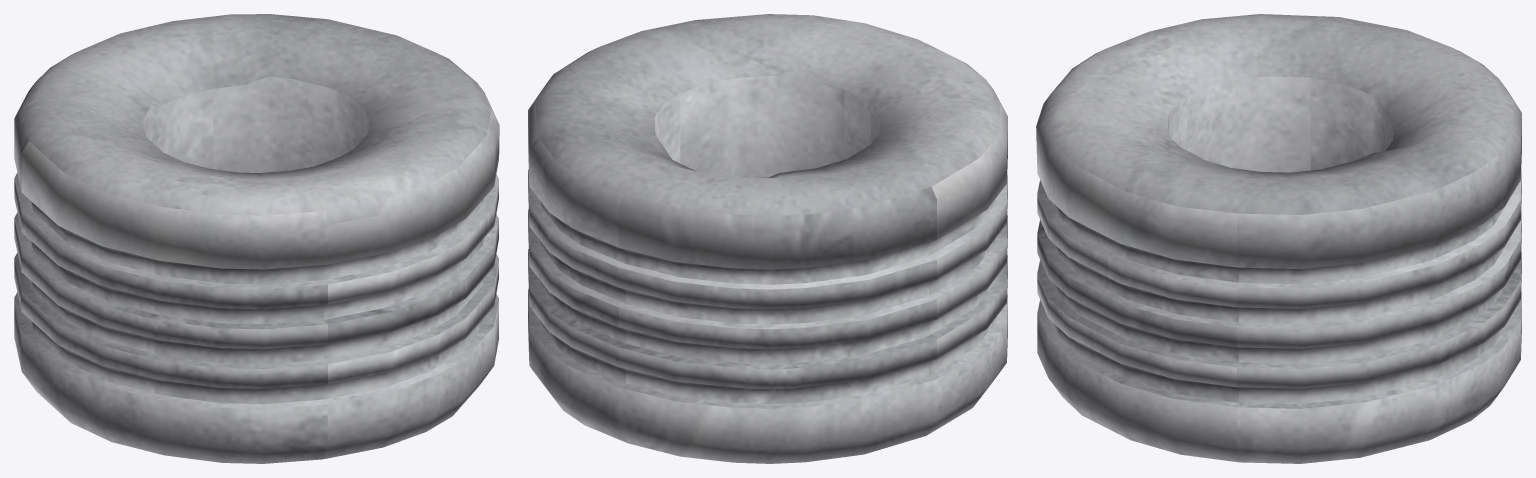
The picture shows the model from 3 angles, left to right: view 1: azimuth 30°, elevation 25°; view 2: azimuth 150°, elevation 25°; view 3: azimuth 270°, elevation 25°; orthographic projection.
Parts seen in each view (by area): view 1: Wheel_b_dx_Ferrari_wheel_back_R.001; view 2: Wheel_b_dx_Ferrari_wheel_back_R.001; view 3: Wheel_b_dx_Ferrari_wheel_back_R.001.
Boxes of the visible parts, box(x1,y1,x2,y2) form: Wheel_b_dx_Ferrari_wheel_back_R.001: box(14, 14, 499, 463); Wheel_b_dx_Ferrari_wheel_back_R.001: box(528, 14, 1007, 463); Wheel_b_dx_Ferrari_wheel_back_R.001: box(1036, 14, 1521, 463).
Size of the model in its own units: 3.61 by 2.18 by 3.61.
Materials: 1 (1 with a texture image).
